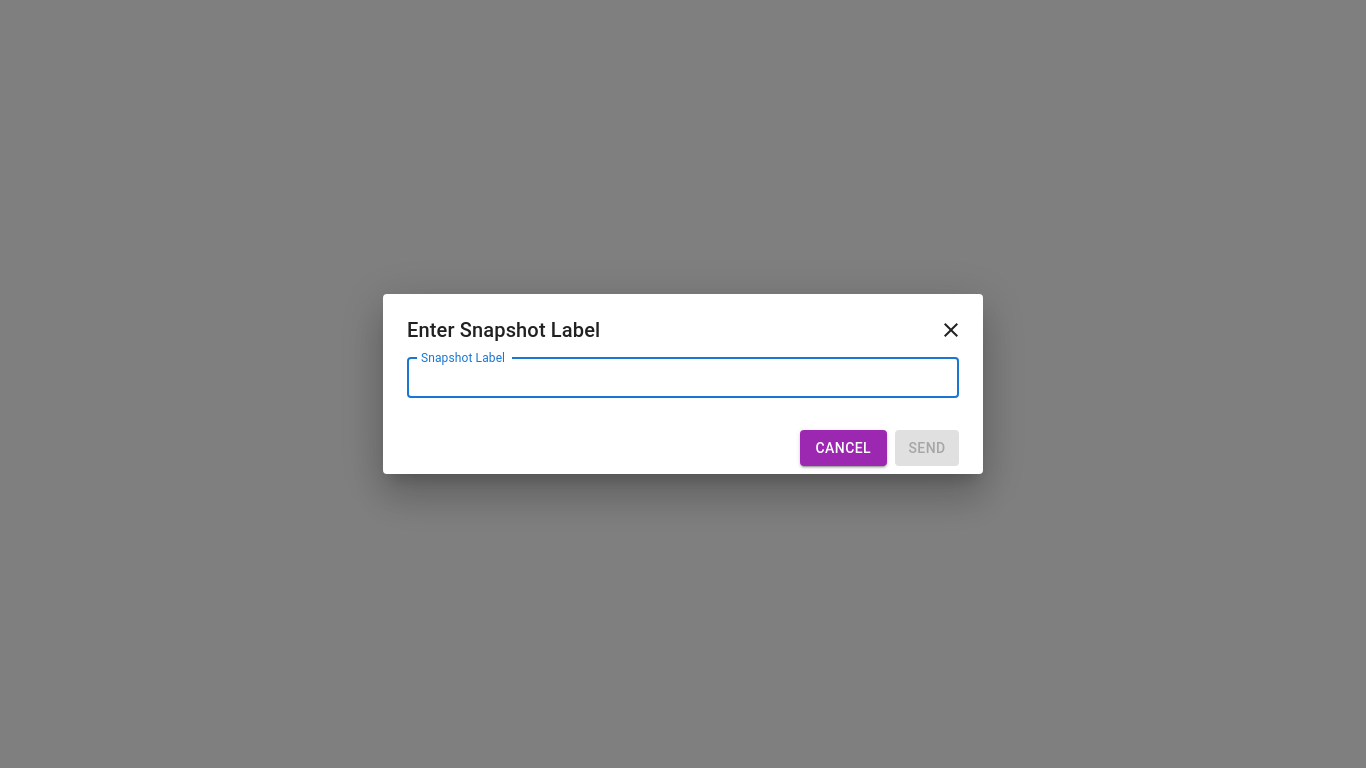
it: EndStatusModal › Form submission and API integration › shows error snackbar and closes modal on failed submission
Step 1. Type "Error test" into the field labelled "Snapshot Label" → (683, 378), box [407,358,959,398]
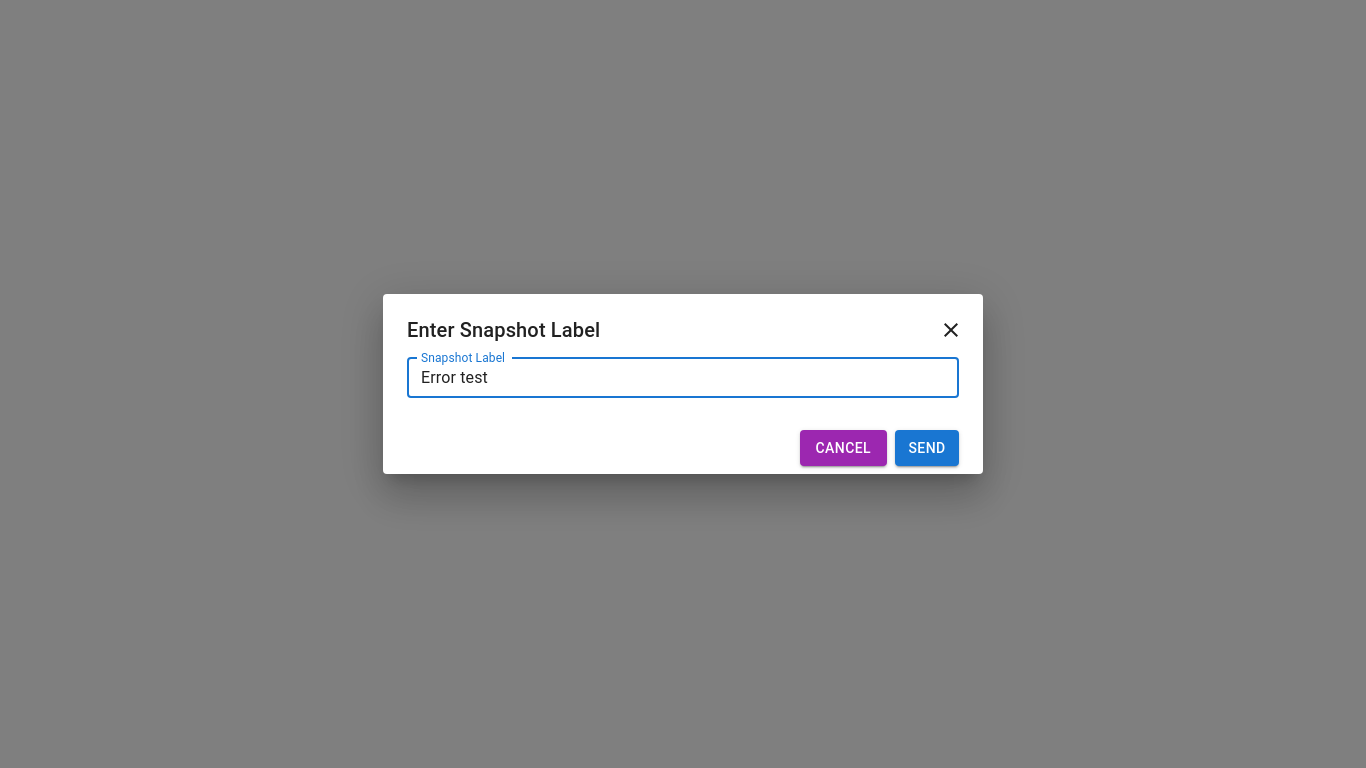
Step 2. Click the button "Send" → (927, 448), box [895,430,959,466]
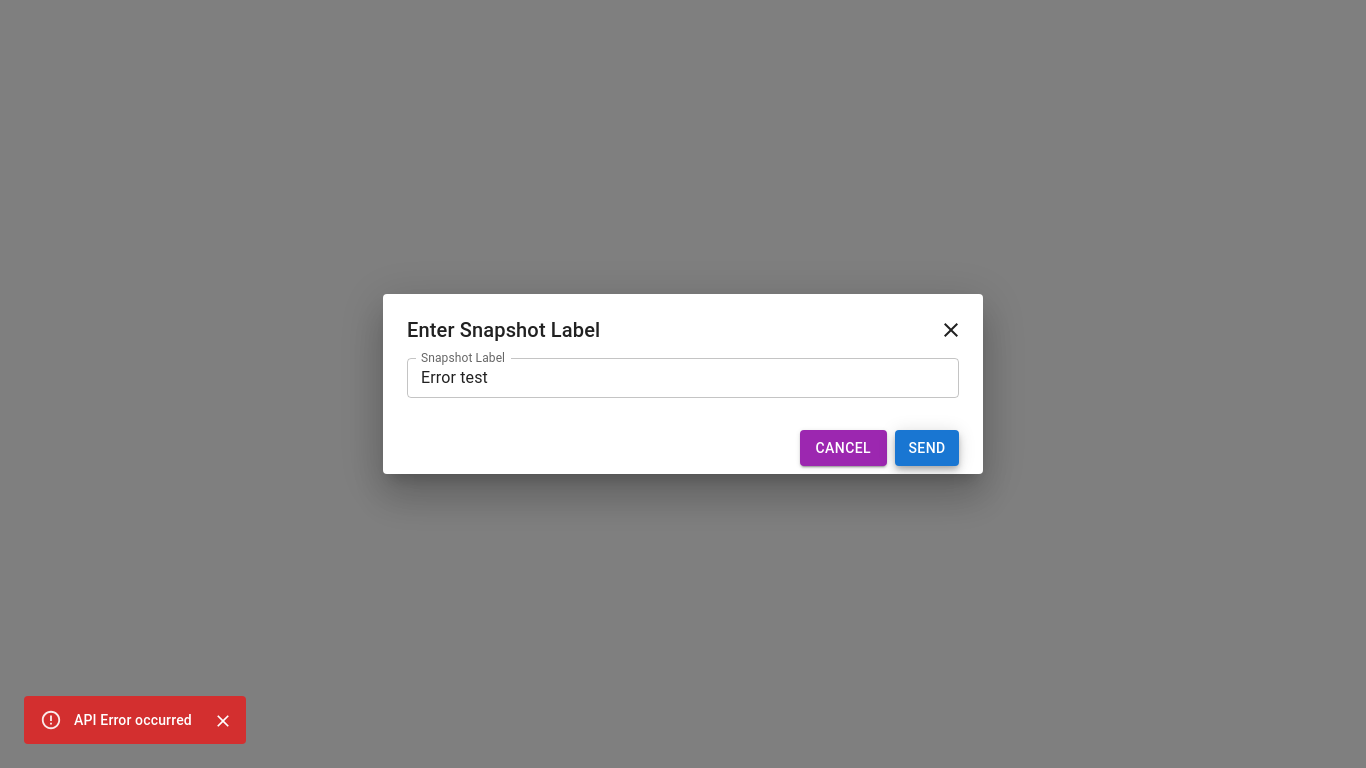
Expected: the text "API Error occurred" is shown, [74,712,192,728]
